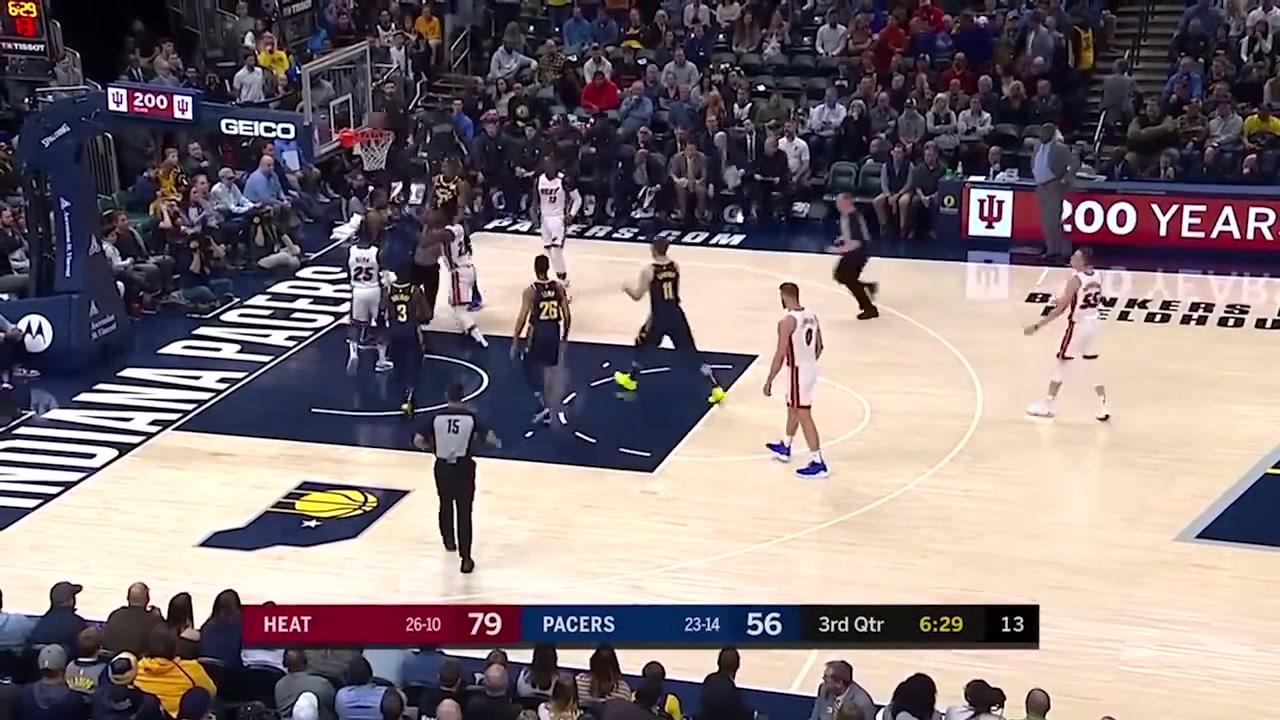foul: (347, 187, 487, 352)
